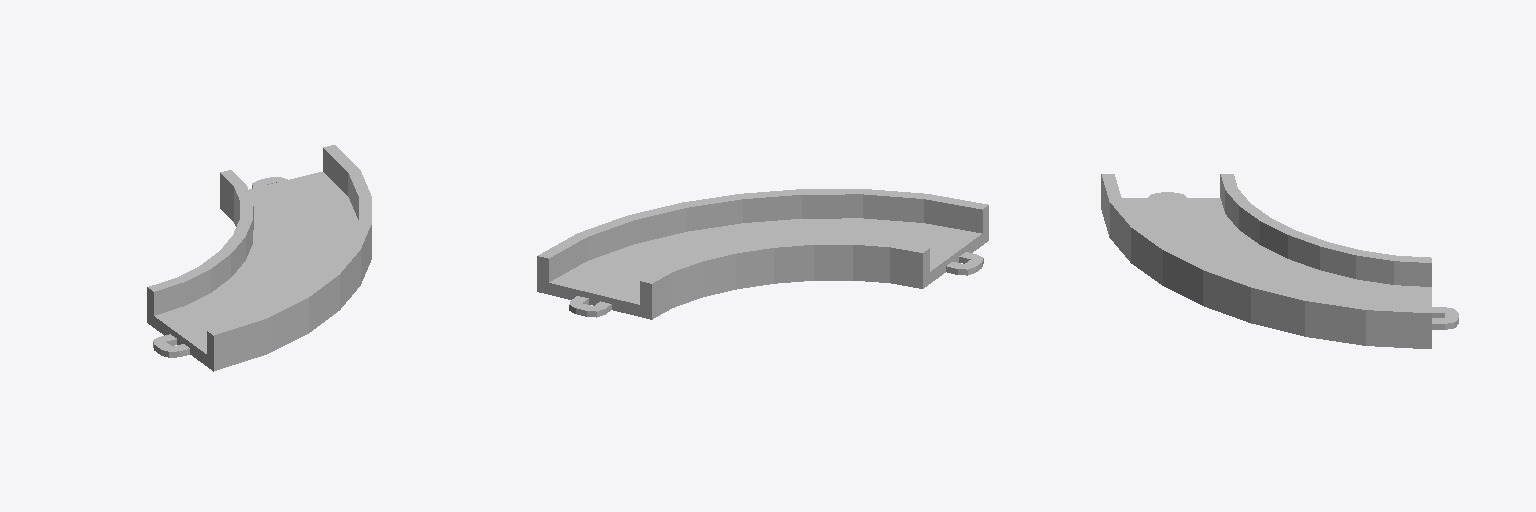
File: track-road-narrow-corner-small.obj
3 renders of one model, left to right at view 1: azimuth 30°, elevation 25°; view 2: azimuth 150°, elevation 25°; view 3: azimuth 270°, elevation 25°, orthographic.
Parts seen in each view (by area): view 1: track-road-narrow-corner-small; view 2: track-road-narrow-corner-small; view 3: track-road-narrow-corner-small.
Part boxes in pixels (left/top/right/bottom): track-road-narrow-corner-small: left=147, top=145, right=371, bottom=371; track-road-narrow-corner-small: left=537, top=189, right=988, bottom=319; track-road-narrow-corner-small: left=1101, top=174, right=1458, bottom=348.
Size of the model in its own units: 2.7 by 0.3 by 2.7.